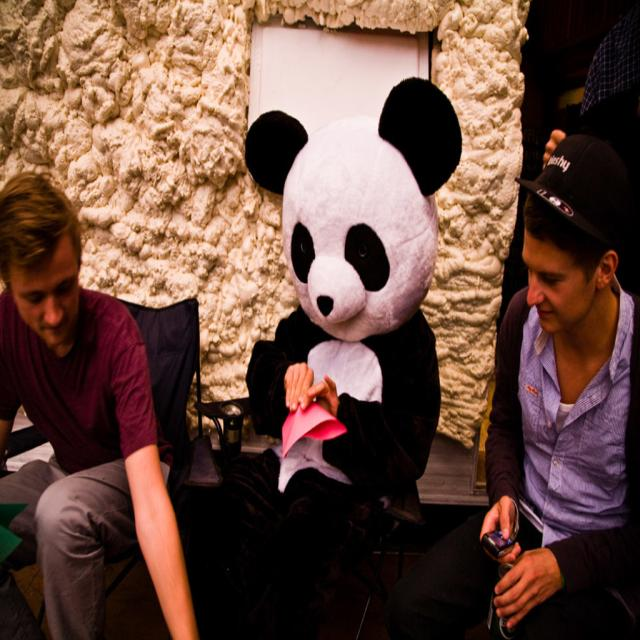panda: (245, 76, 460, 544)
